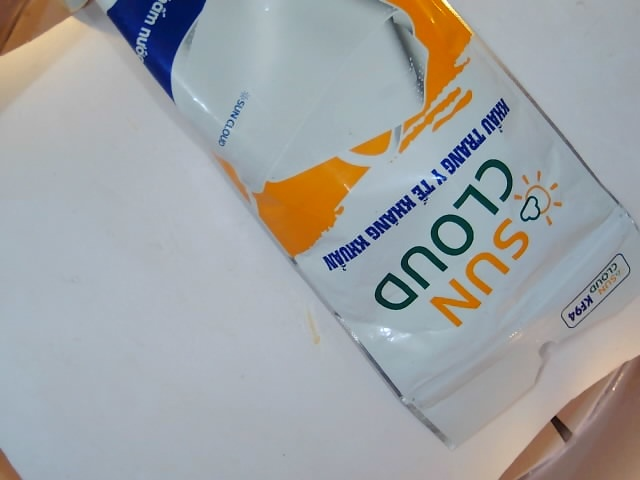plastic-bag: (70, 0, 639, 451)
